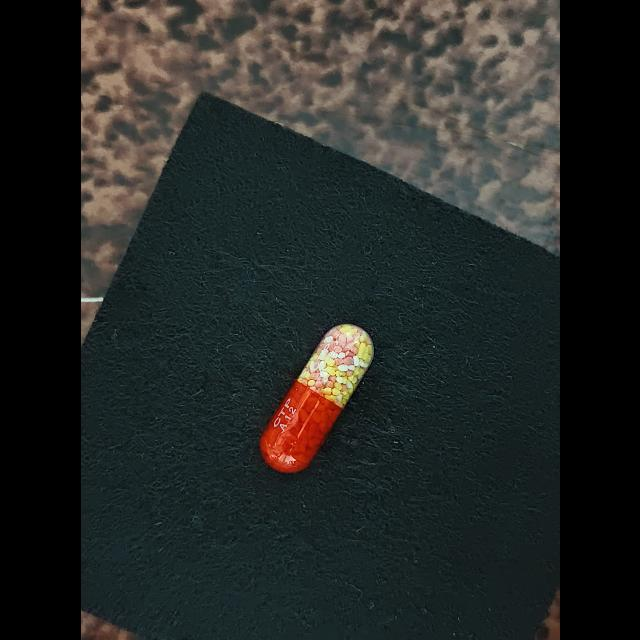Intact Capsule: (259, 324, 374, 473)
